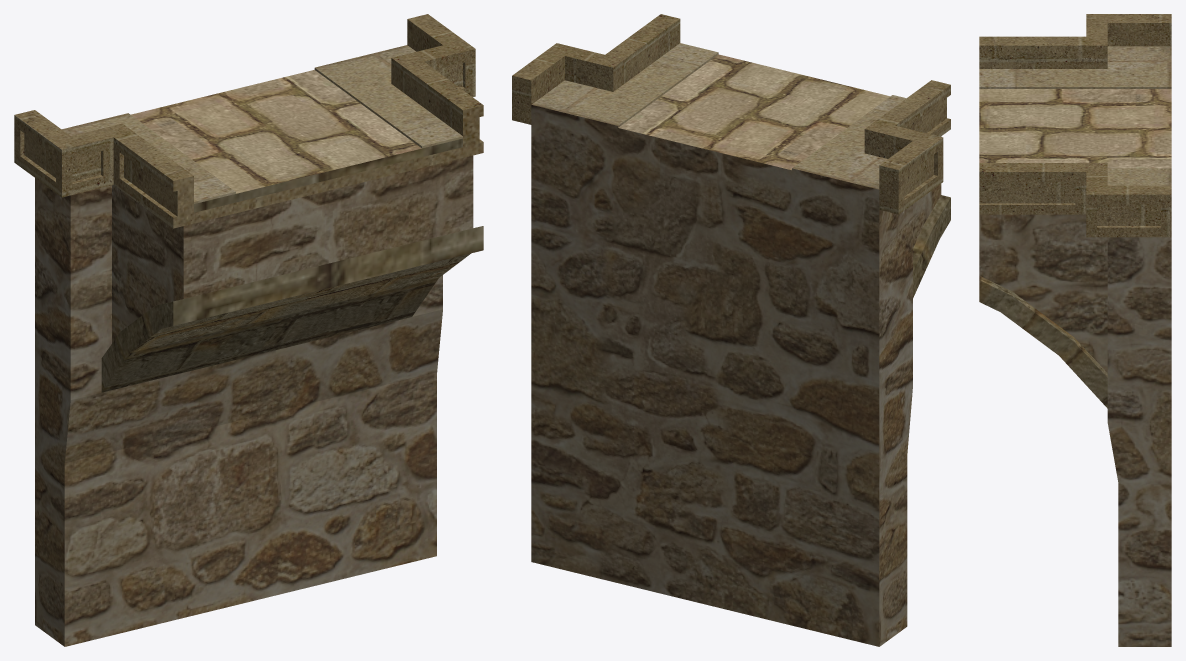
File: bridgegap piece.obj
3 renders of one model, left to right at view 1: azimuth 30°, elevation 25°; view 2: azimuth 150°, elevation 25°; view 3: azimuth 270°, elevation 25°, orthographic. The views are drawn at different scales.
Parts seen in each view (by area): view 1: Default; view 2: Default; view 3: Default.
Part boxes in pixels (<box>): Default: <box>14,14,483,646</box>; Default: <box>512,14,950,646</box>; Default: <box>979,14,1171,646</box>.
Bounding box in the file's own units: 20 × 23.8 × 9.
Materials: 5 (5 with a texture image).
